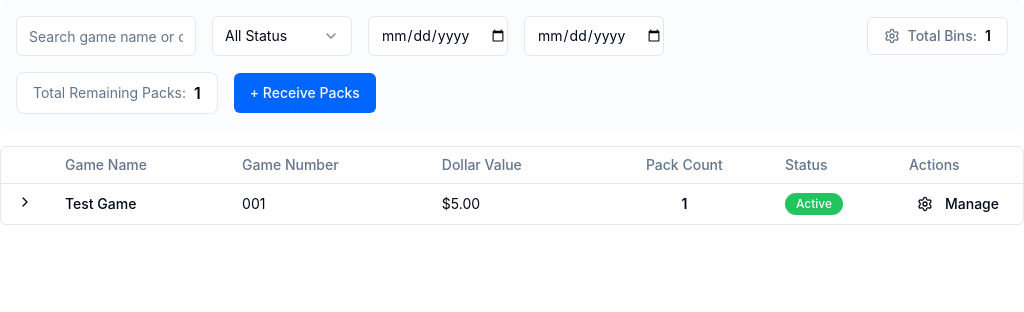
Test: LotteryTable: Return Button Feature (SEC-010: AUTHZ) › RETURN-BTN-006: [P1] should enable Return for RECEIVED pack with can_return=true
Click the row with test id "lottery-table-row-game-1": [101, 203] box [1,183,1023,224]
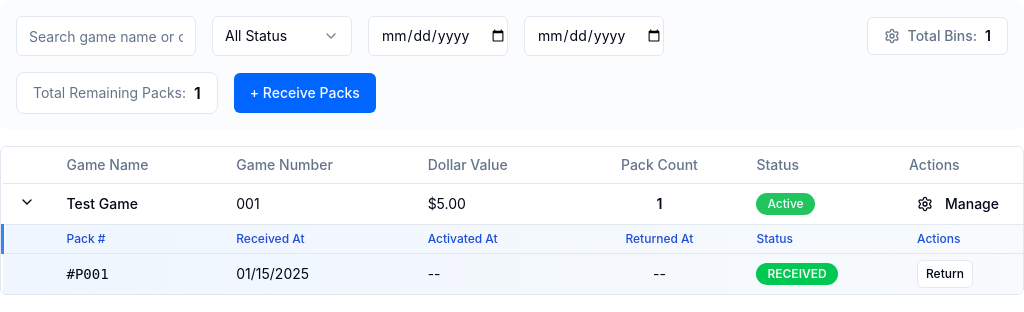
expect the button with test id "return-pack-btn-pack-received" is enabled: met, box [917,260,973,288]
